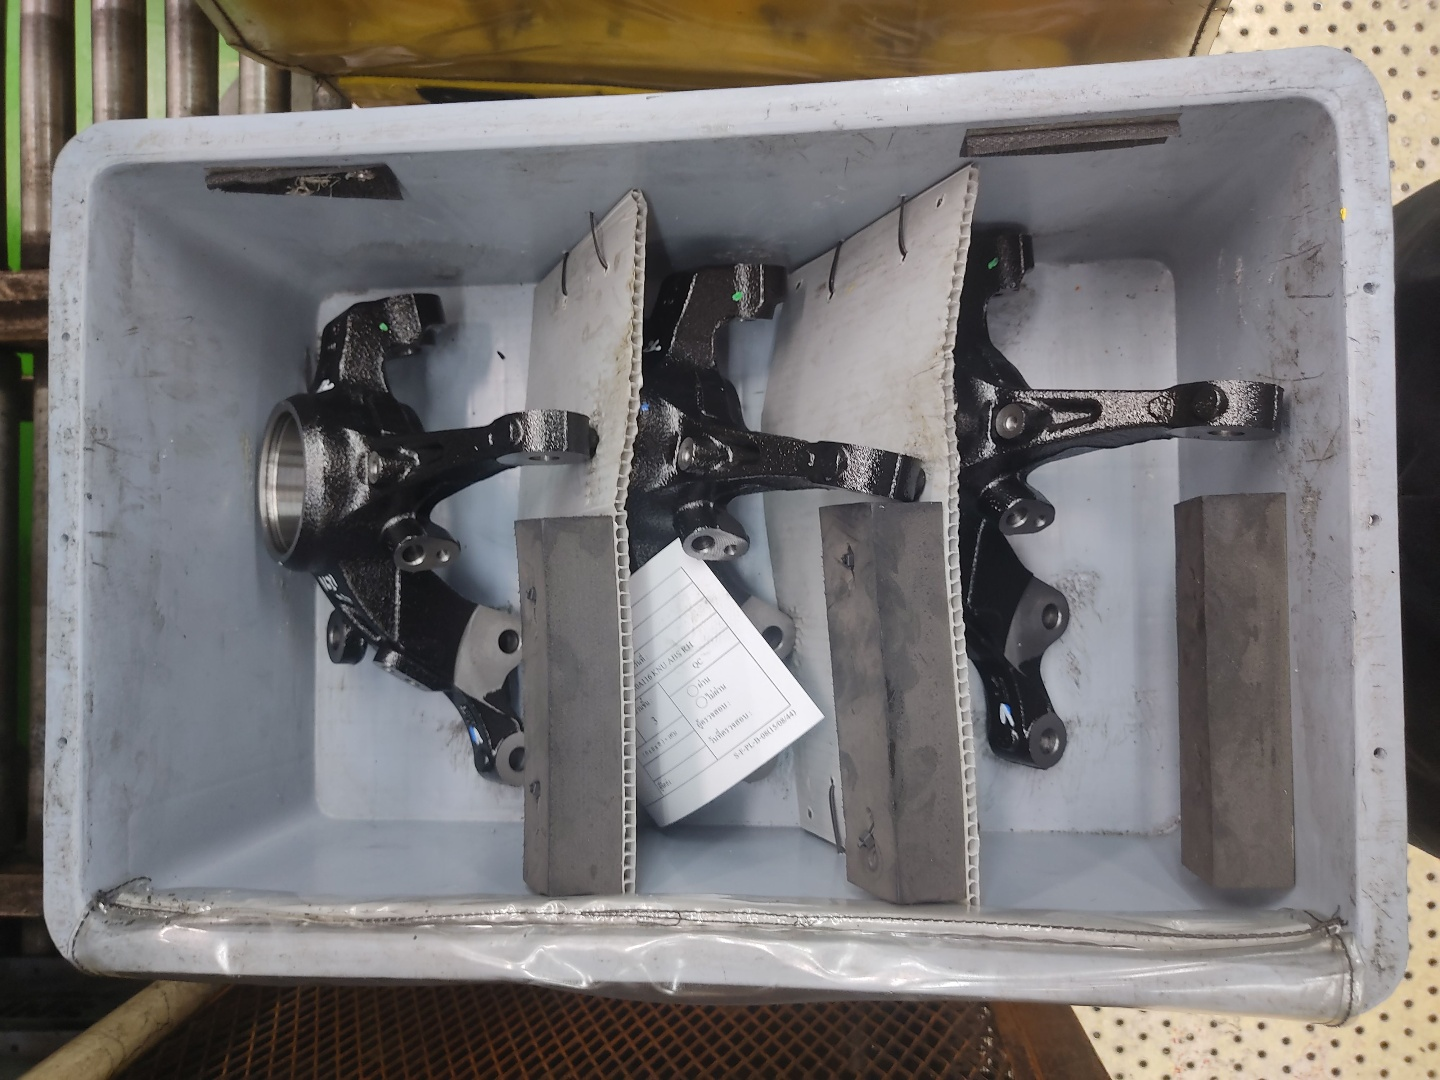abs-rh: (946, 217, 1289, 778), (249, 285, 603, 793), (625, 252, 937, 768)
